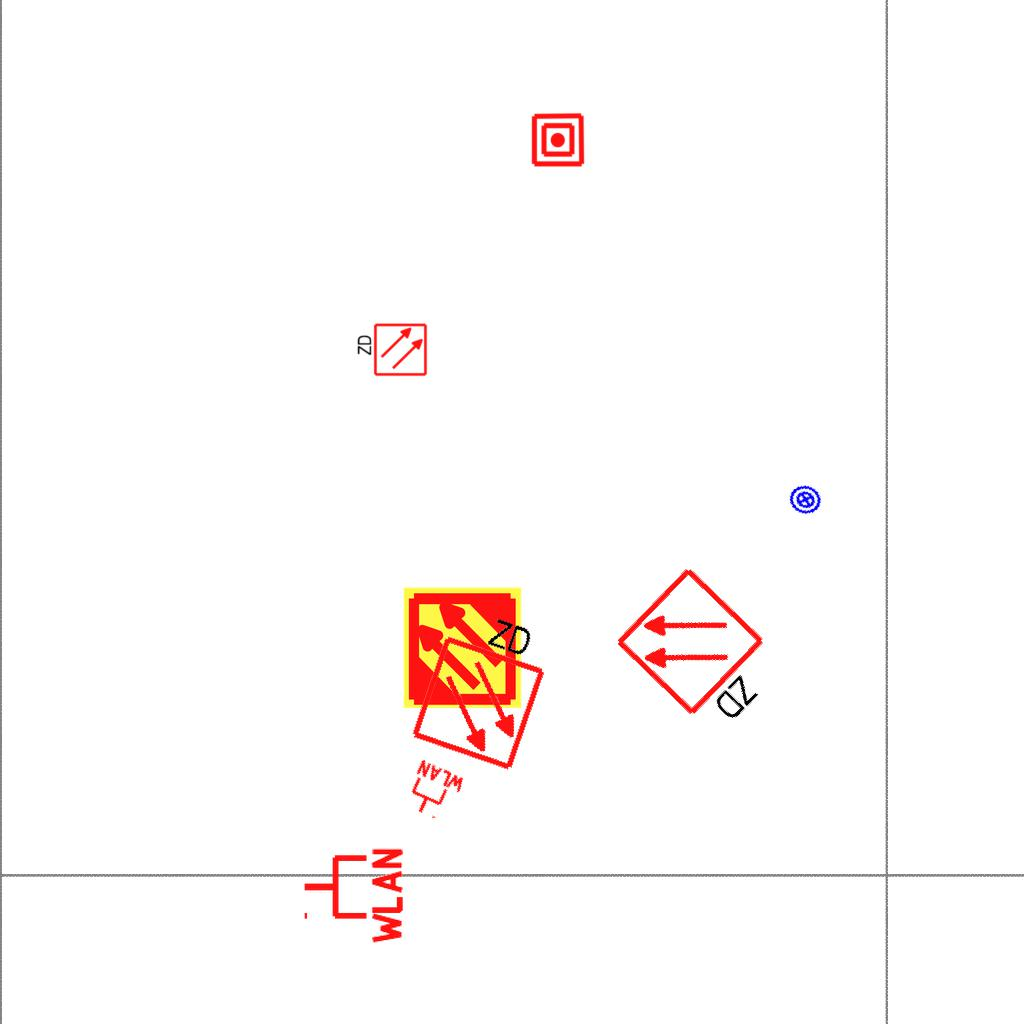ASR_Ansaugrauchmelder: (400, 585, 525, 710)
NAM-Nichtautomatischer_Melder: (530, 112, 586, 168)
Taster_beleuchtet: (784, 478, 827, 521)
WLAN: (300, 844, 405, 948), (399, 757, 469, 827)
ZD_Melder_in_Zwischendecke_mit_Revisionsoeffnung_mind_40_x_40_cm: (611, 560, 799, 747), (404, 595, 562, 774), (354, 322, 428, 379)
